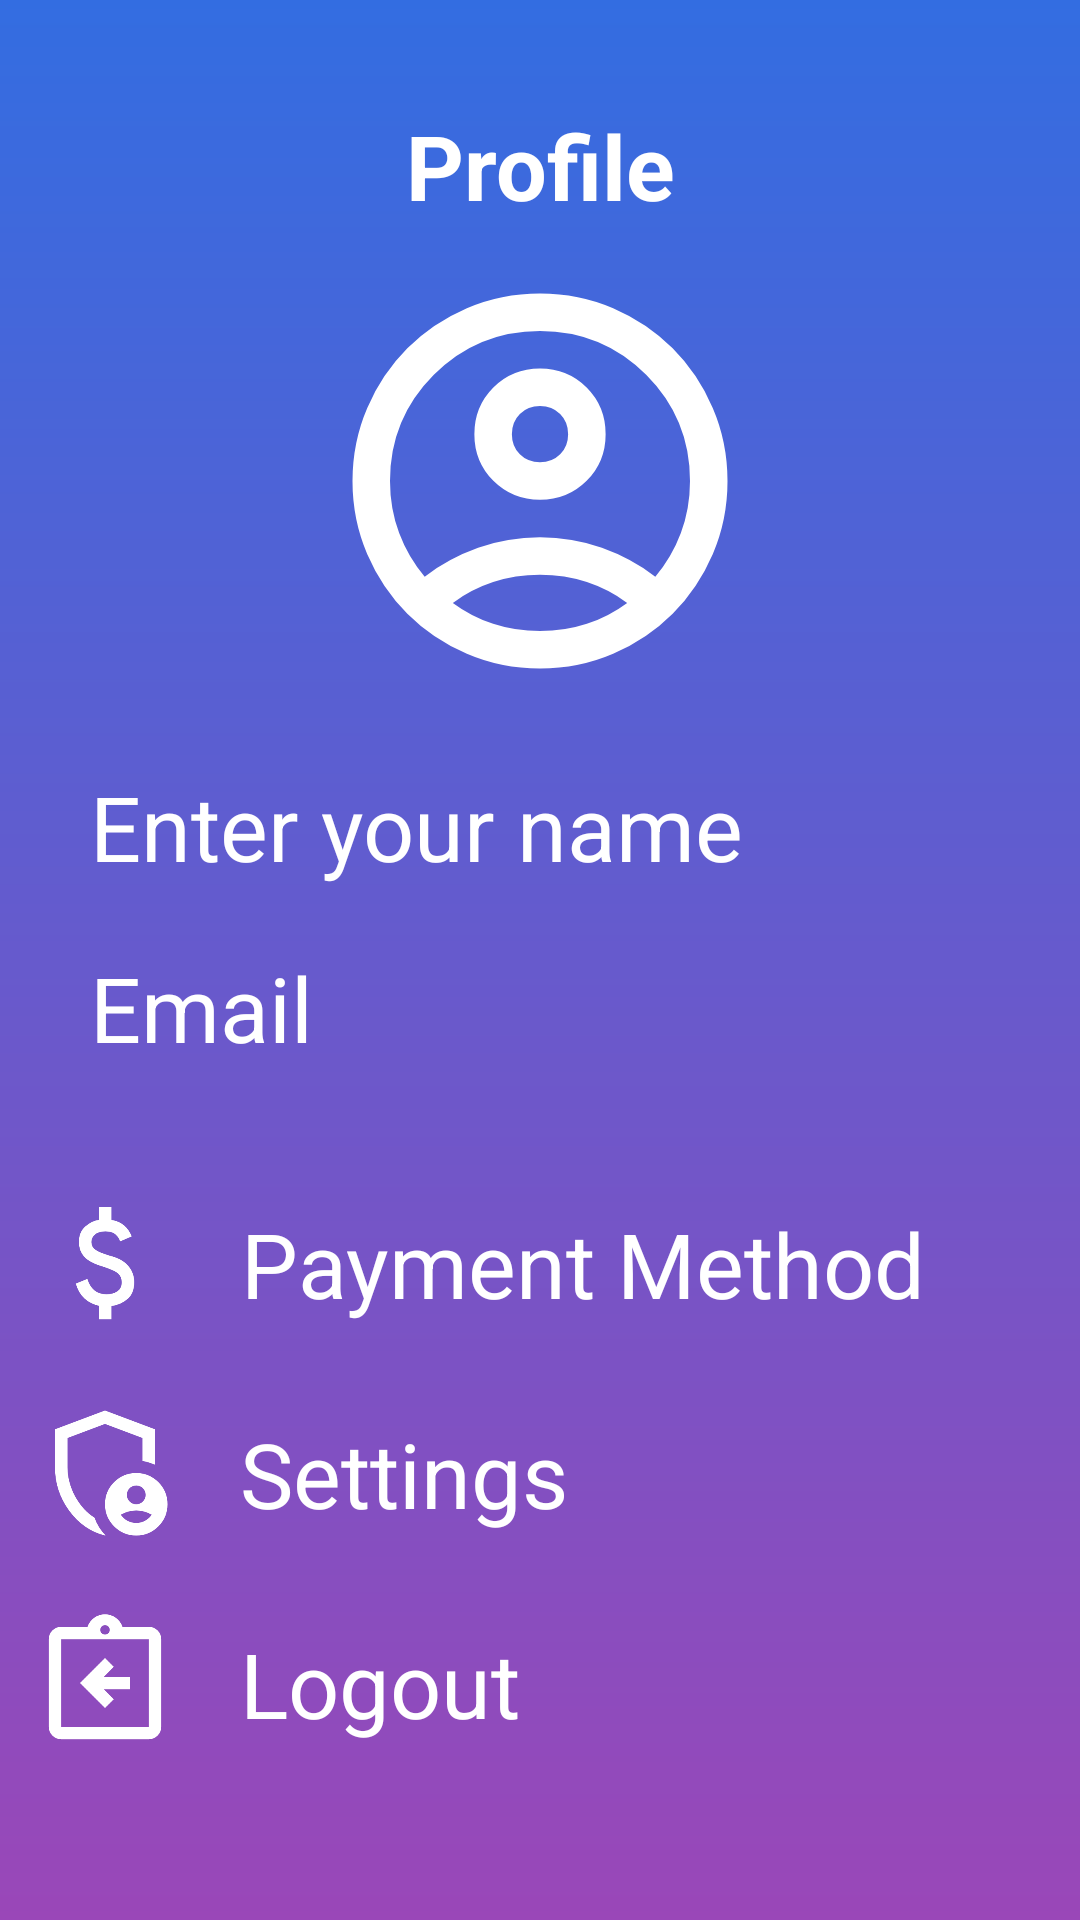

Icons on this 1080 × 1920 Android screen, each with its box as (left=x1, top=y1, right=x2, bottom=y2):
assignment return: (left=49, top=1614, right=161, bottom=1740)
attach money: (left=76, top=1207, right=134, bottom=1320)
